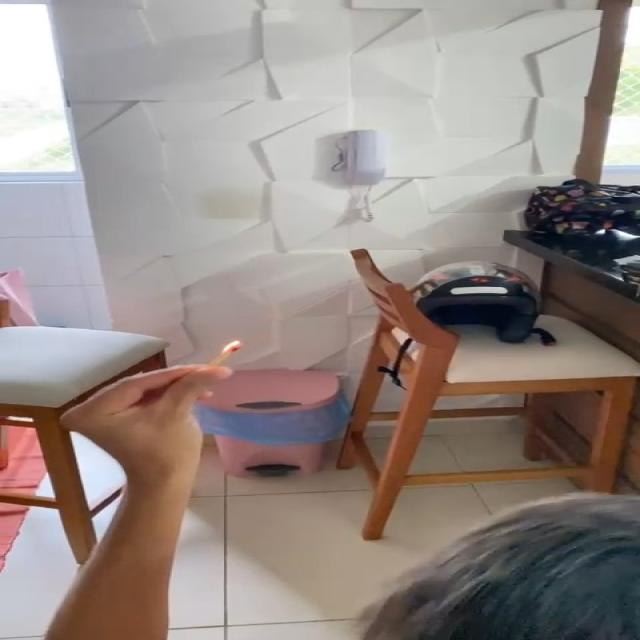fogo-ypXI: (222, 340, 241, 352)
